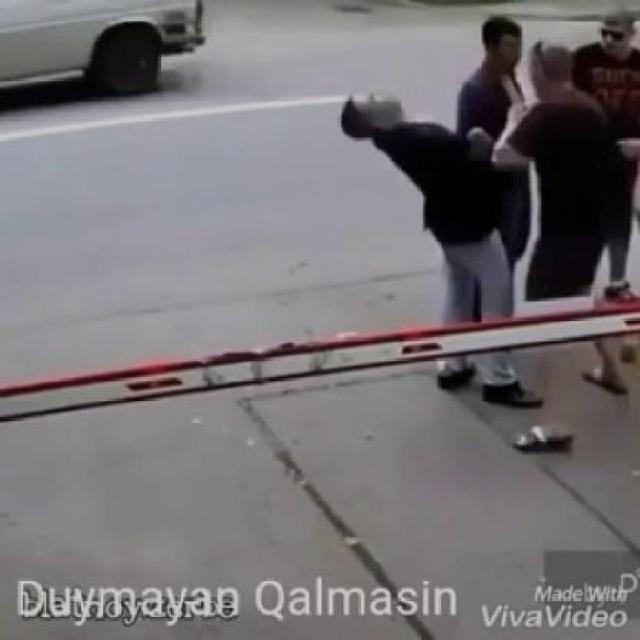fight: (346, 0, 638, 424)
